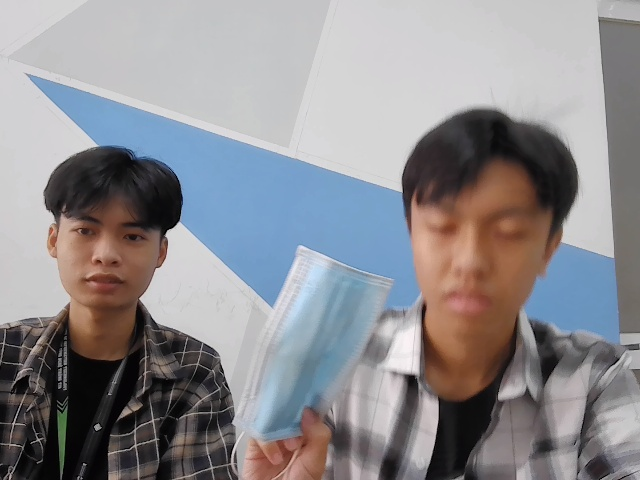human: (398, 109, 575, 328), (42, 140, 191, 309)
mask: (232, 245, 398, 442)
